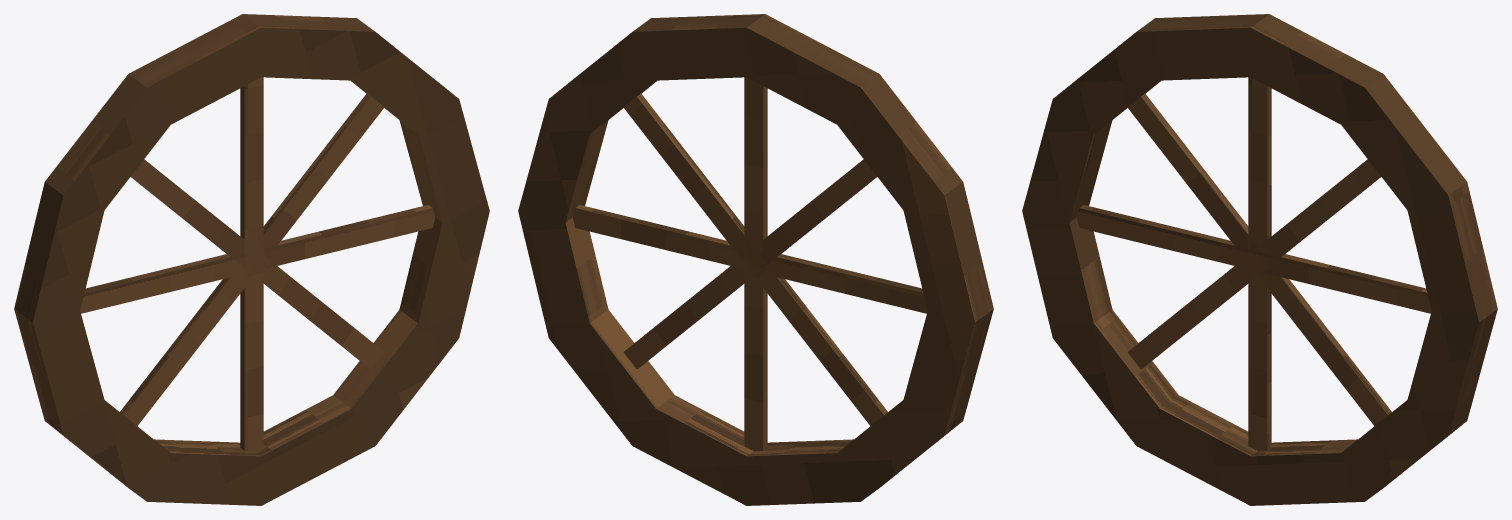
The model's file is wheel.gltf.
3 views of the same model, side by side, from view 1: azimuth 30°, elevation 25°; view 2: azimuth 150°, elevation 25°; view 3: azimuth 330°, elevation 25° (orthographic).
Parts seen in each view (by area): view 1: 円柱; view 2: 円柱; view 3: 円柱.
Part boxes in pixels (x1,y1,x2,y2): 円柱: (14,14,489,505); 円柱: (518,14,993,505); 円柱: (1022,14,1497,505).
Bounding box in the file's own units: 5.42 × 5.42 × 0.3851.
1 material, 1 textured.
